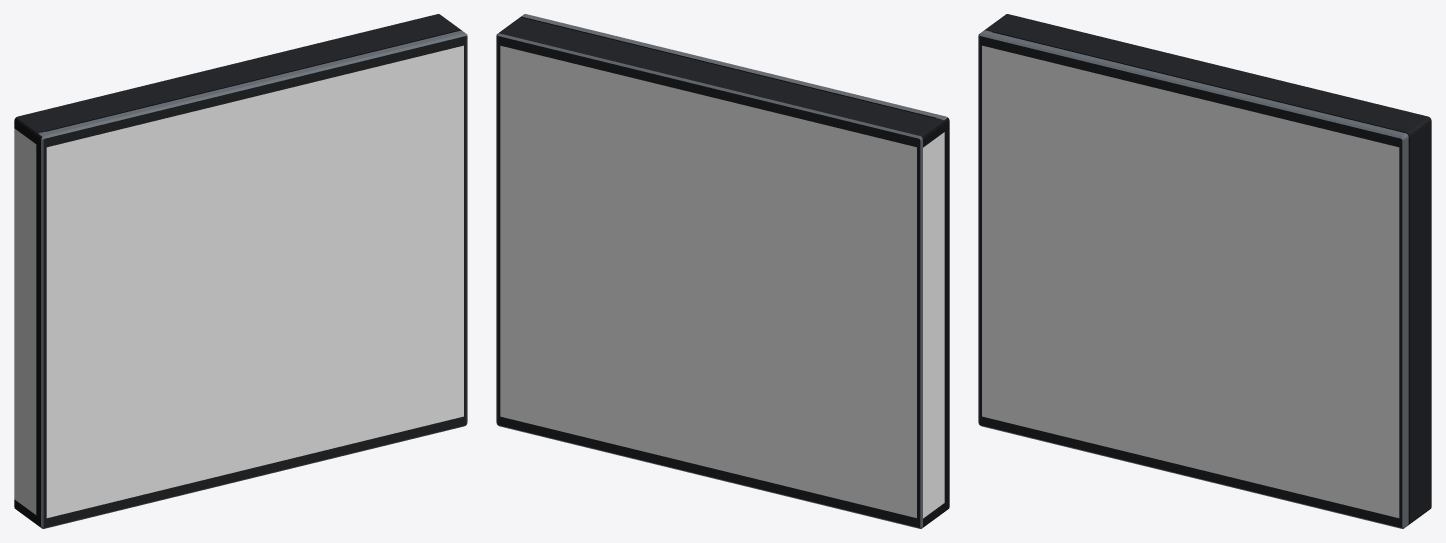
The model's file is megacd_case.glb.
3 renders of one model, left to right at view 1: azimuth 30°, elevation 25°; view 2: azimuth 150°, elevation 25°; view 3: azimuth 330°, elevation 25°, orthographic.
Parts seen in each view (by area): view 1: megacd_case; view 2: megacd_case; view 3: megacd_case.
Boxes of the visible parts, box(x1,y1,x2,y2) form: megacd_case: box(14, 14, 467, 528); megacd_case: box(496, 14, 949, 528); megacd_case: box(978, 14, 1431, 528).
Bounding box in the file's own units: 1 × 0.8803 × 0.1162.
4 materials, 1 textured.
